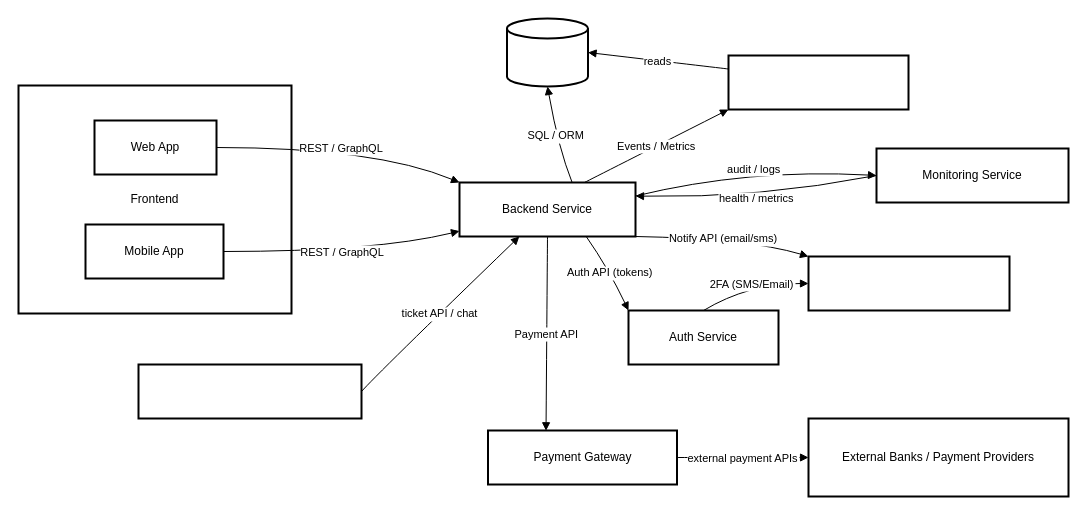
This 1086x514 diagram has some shape labels left out. Here are the shapes that lost their labels. From the top down, the centre of each, then its label:
At point (547, 52): "Database".
At point (818, 82): "Analytics Module".
At point (908, 283): "Notification Service".
At point (249, 391): "Support / Chat Service".
